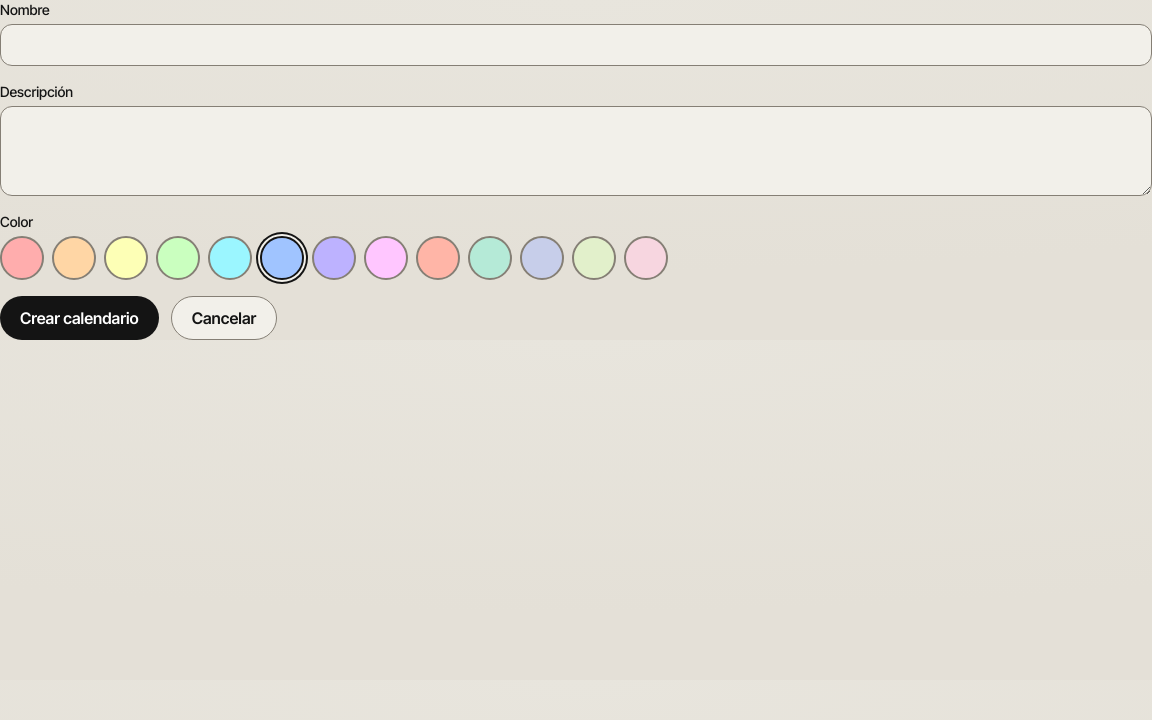
Test: CalendarForm (RF-1, RF-2, RF-4) › shows each error next to its field
The image size is (1152, 720).
Click the button "Crear calendario" at x=79, y=318, box [0,296,159,340]
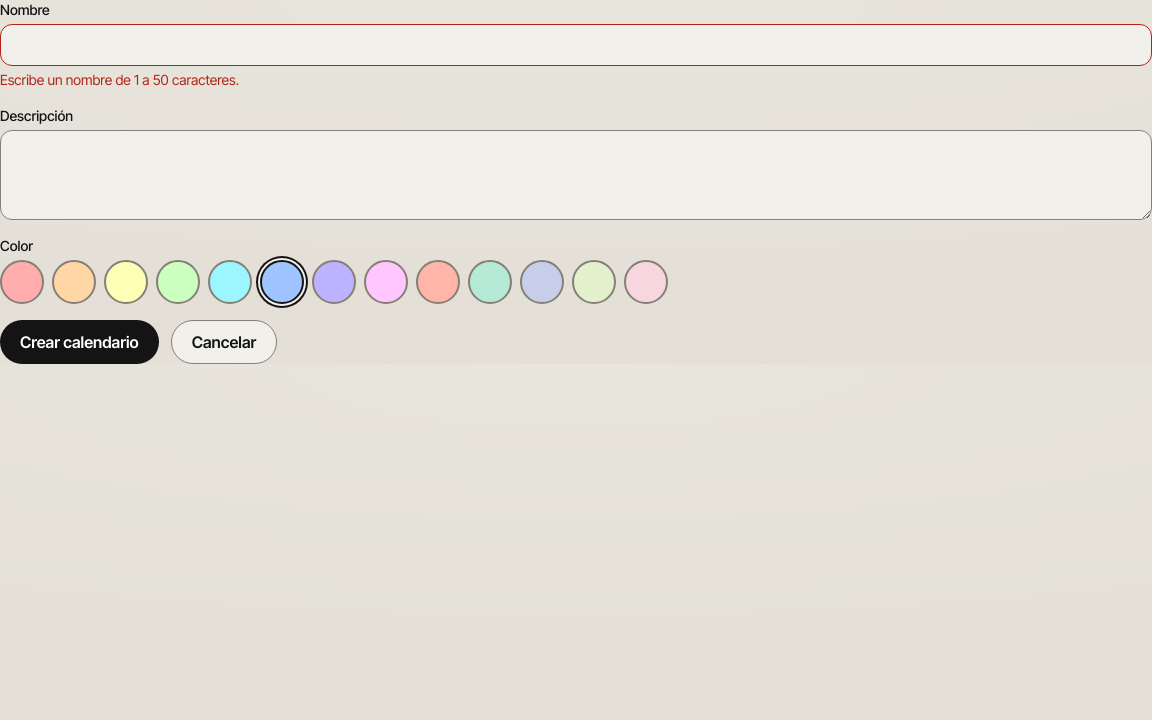
Check: the text "Escribe un nombre de 1 a 50 caracteres." is shown, box [0,71,239,88]
